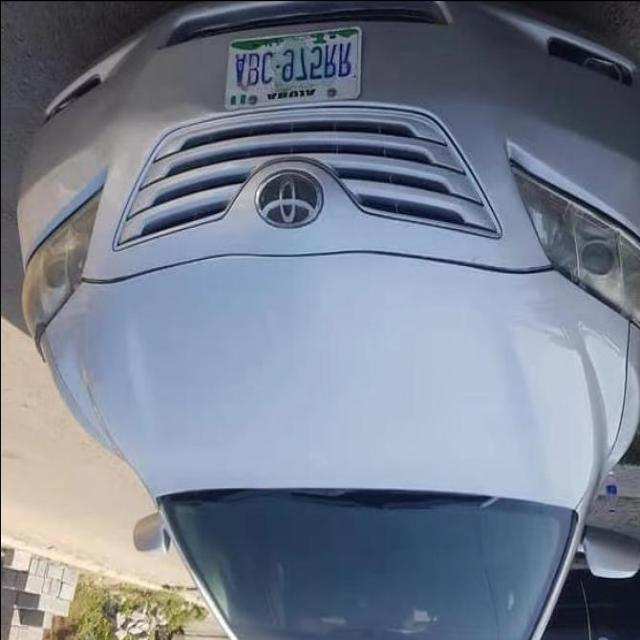Nigerian License Plate - vdataset benjamin-daria: (225, 29, 363, 110)
